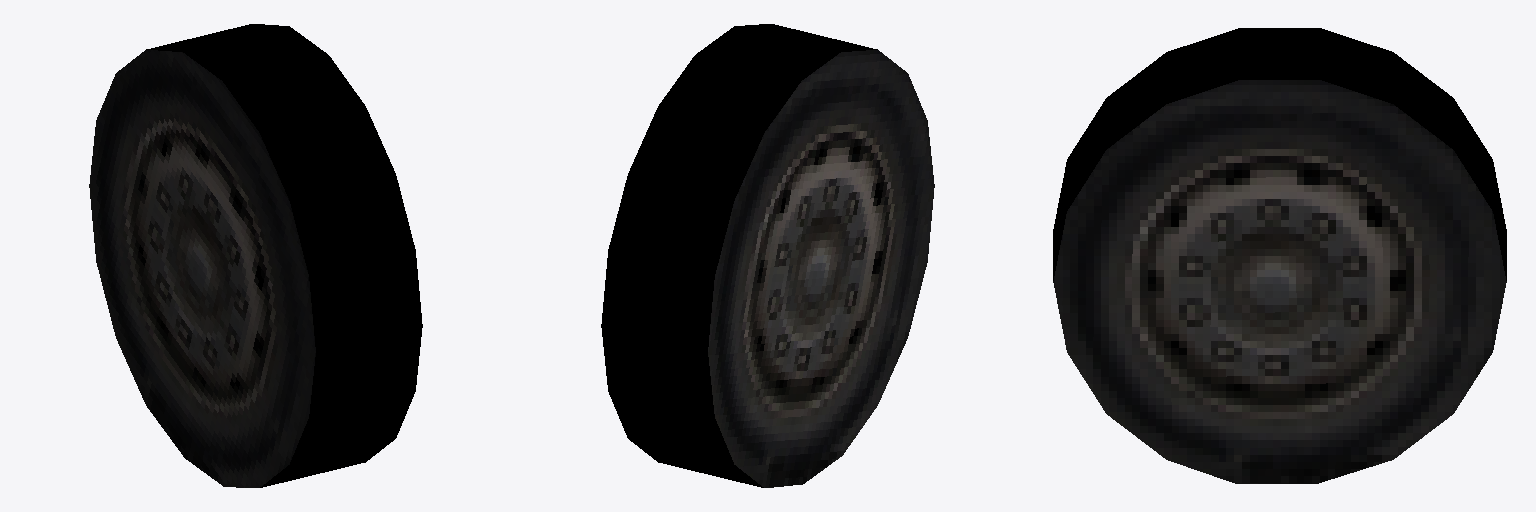
The picture shows the model from 3 angles: view 1: azimuth 30°, elevation 25°; view 2: azimuth 150°, elevation 25°; view 3: azimuth 270°, elevation 25°; orthographic projection.
Visible parts, largest first — view 1: Cylinder005; view 2: Cylinder005; view 3: Cylinder005.
Boxes of the visible parts, x1=… form: Cylinder005: x1=89, y1=24, x2=422, y2=487; Cylinder005: x1=601, y1=24, x2=934, y2=487; Cylinder005: x1=1053, y1=28, x2=1506, y2=483.
Size of the model in its own units: 0.3178 by 1.15 by 1.17.
Materials: 1 (1 with a texture image).